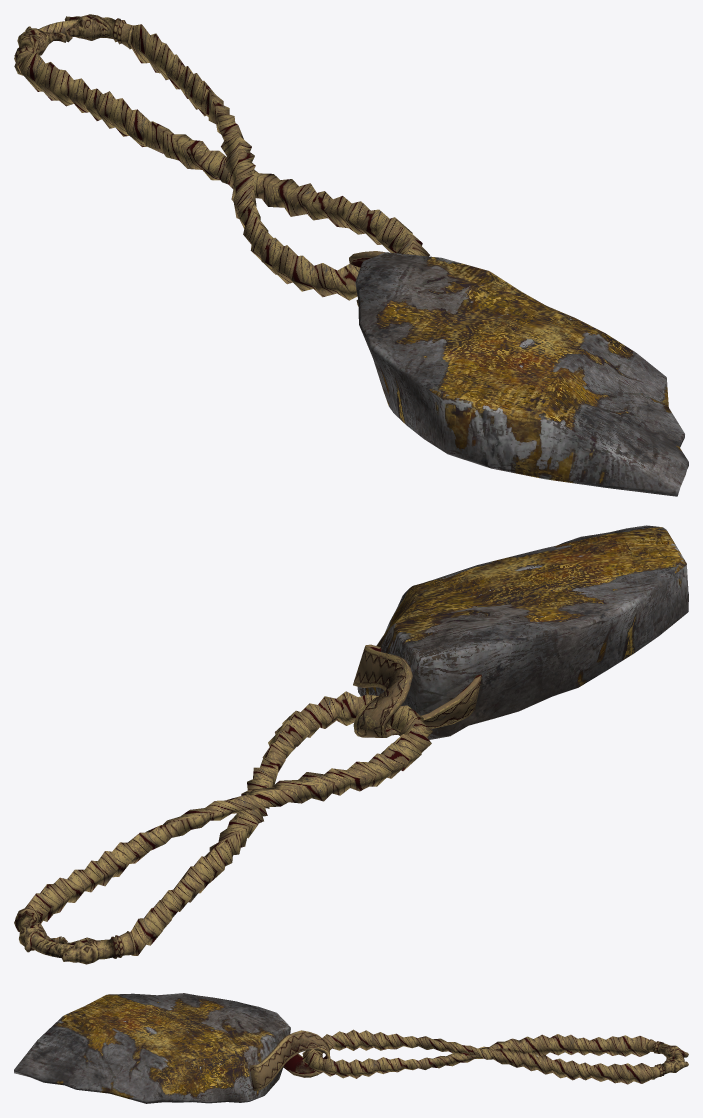
Rendered from gravelstoneseal.fbx.
3 renders of one model, top to bottom at view 1: azimuth 30°, elevation 25°; view 2: azimuth 150°, elevation 25°; view 3: azimuth 270°, elevation 25°, orthographic. The views are drawn at different scales.
Visible parts, largest first — view 1: WP_A_1333; view 2: WP_A_1333; view 3: WP_A_1333.
Part boxes in pixels (x1=…): WP_A_1333: x1=14, y1=14, x2=688, y2=496; WP_A_1333: x1=14, y1=525, x2=688, y2=964; WP_A_1333: x1=14, y1=993, x2=688, y2=1103.
Size of the model in its own units: 23.63 by 9.48 by 96.69.
1 material, 1 textured.
